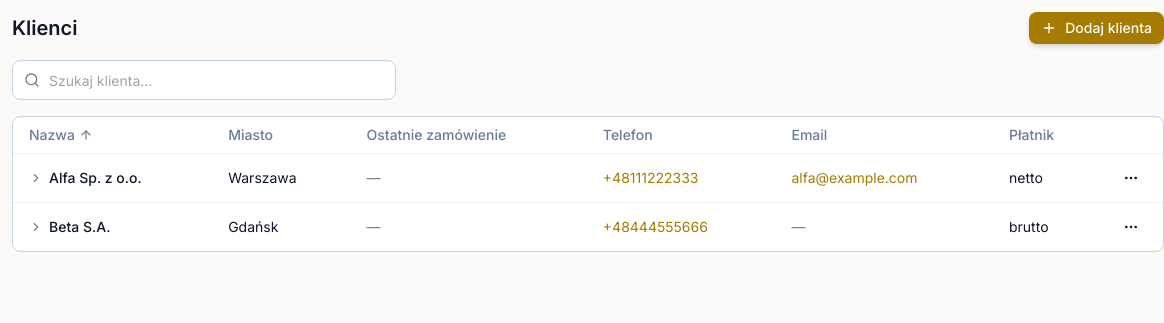
SalesCustomersView › renders the actions dropdown with a delete option
expect the text "Alfa Sp. z o.o." is shown: met, box x1=49 y1=168 x2=142 y2=188
// The MoreHorizontal button has no text label — click the first one
Click the button without text in the row of "Alfa Sp. z o.o.": (1131, 178) x1=1115 y1=162 x2=1147 y2=194
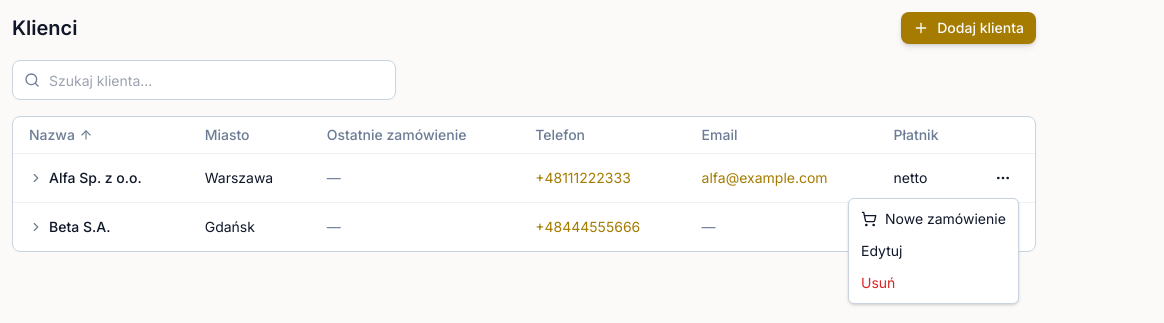
expect the menu item "Usuń" is shown: met, box x1=853 y1=267 x2=1014 y2=299
